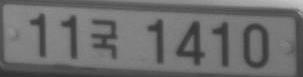0: (243, 23, 268, 68)
1: (59, 15, 82, 59), (211, 22, 233, 67), (146, 19, 169, 62), (29, 12, 50, 57)
4: (176, 20, 204, 65)
국: (89, 19, 117, 58)
